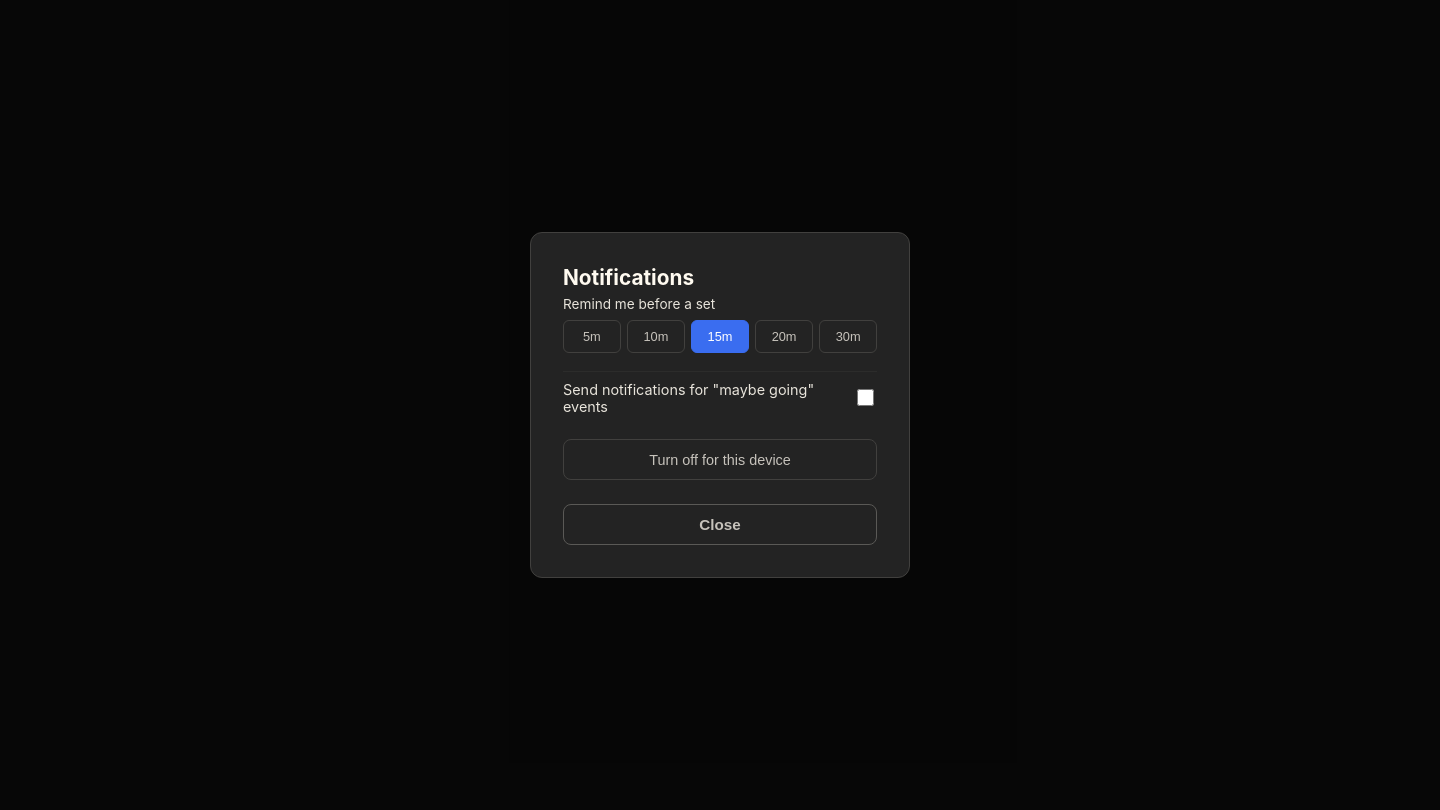
it: NotificationsModal › surfaces a failed save and keeps the changes pending
The image size is (1440, 810).
Click the button "30m" at (848, 337), box [819,320,877,353]
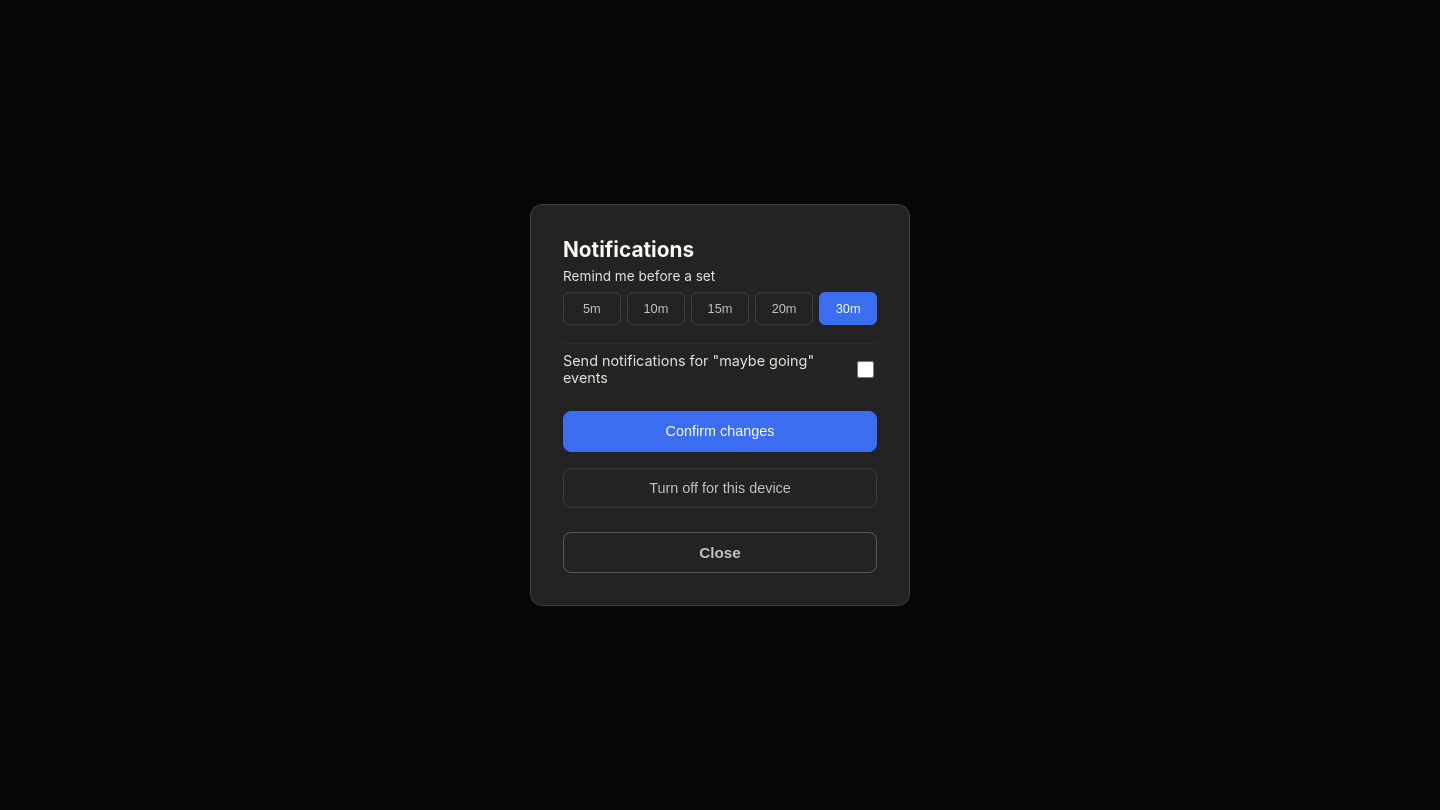
Click the button "Confirm changes" at (720, 431), box [563,411,877,452]
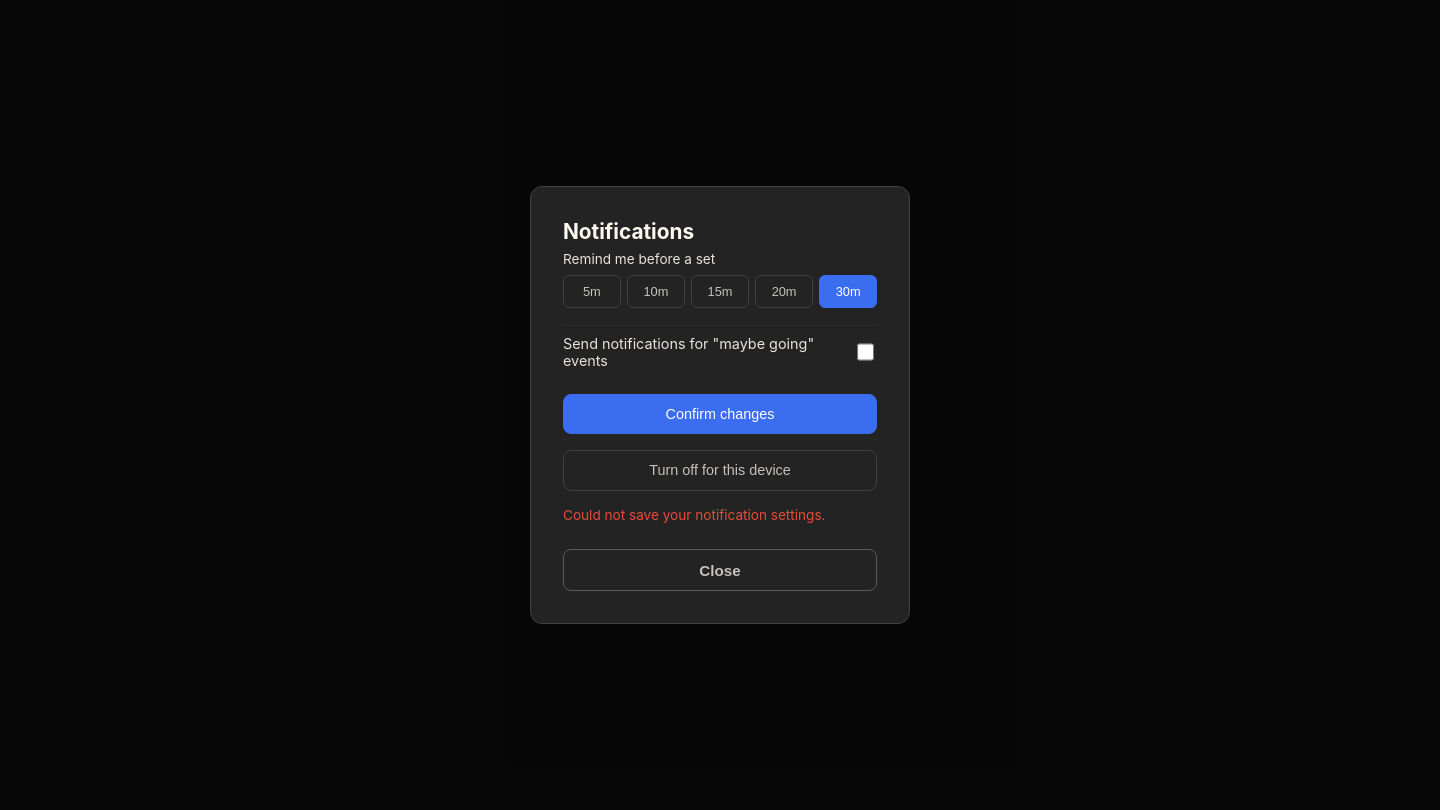
Expected: the button "Confirm changes" is shown, [563,394,877,434]
Expected: the text "Could not save your notification settings." is shown, [563,507,826,523]
